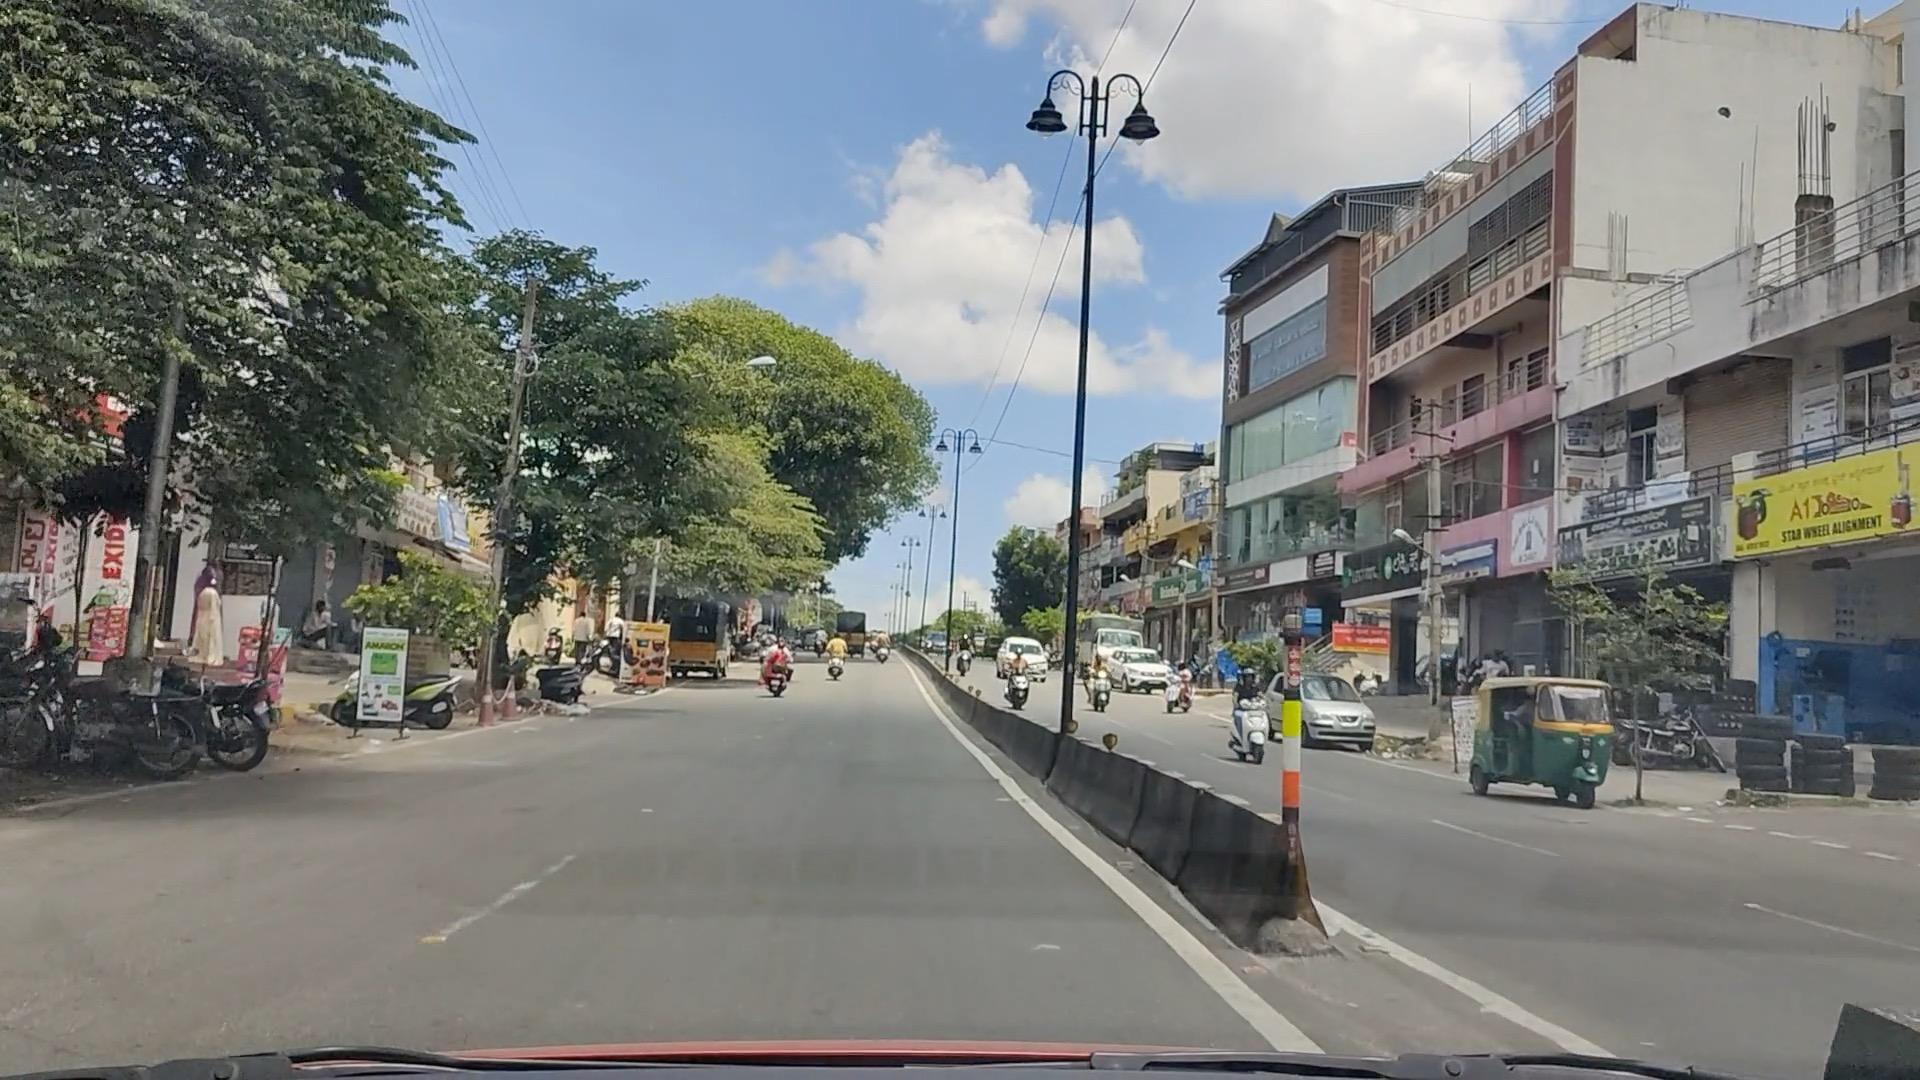LMV: (1466, 667, 1625, 807)
